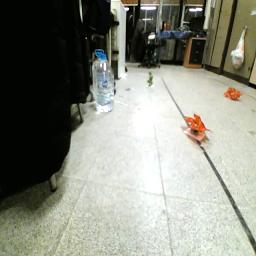herb: (148, 70, 155, 88)
wild: (183, 113, 217, 135), (225, 87, 245, 101)
